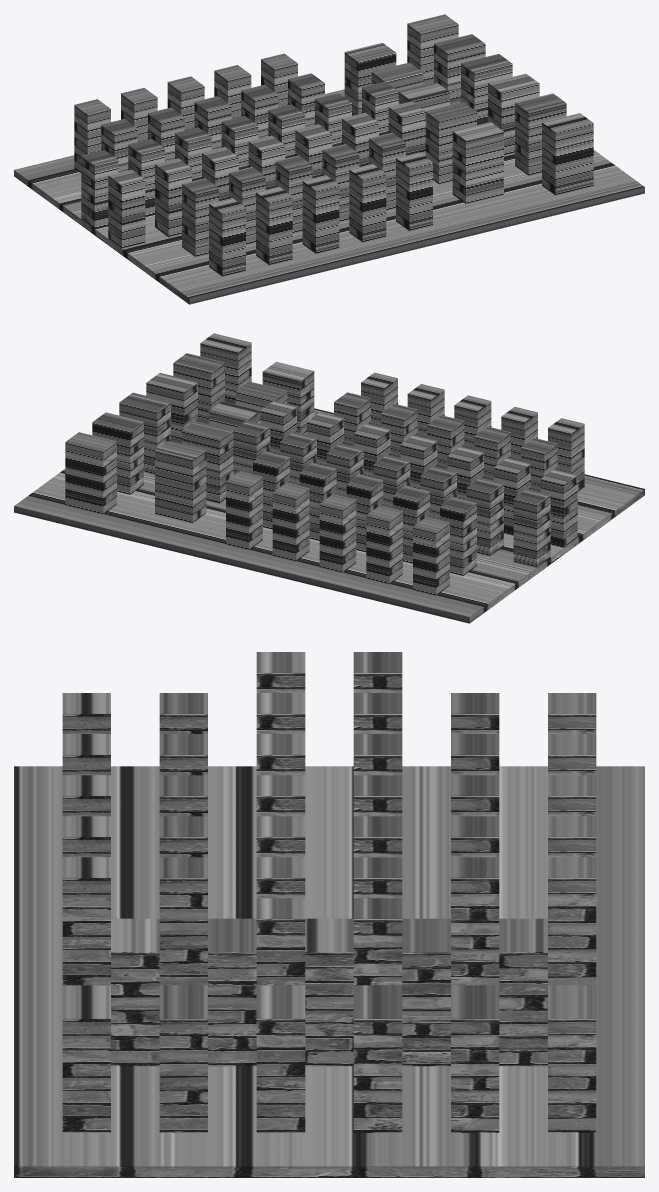
The model's file is stage2.fbx.
The picture shows the model from 3 angles, top to bottom: view 1: azimuth 30°, elevation 25°; view 2: azimuth 150°, elevation 25°; view 3: azimuth 270°, elevation 25°; orthographic projection. The views are drawn at different scales.
Visible parts, largest first — view 1: pCube1; view 2: pCube1; view 3: pCube1.
Boxes of the visible parts, x1,y1,x2,y2 form: pCube1: [14, 14, 644, 304]; pCube1: [14, 333, 644, 623]; pCube1: [14, 652, 644, 1177].
Bounding box in the file's own units: 150 × 22 × 100.
